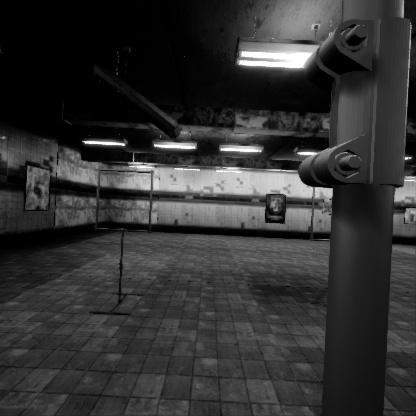gate: (95, 182, 159, 248), (310, 171, 373, 236)
